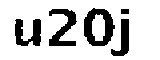0: (82, 7, 114, 47)
2: (46, 6, 79, 50)
j: (112, 7, 135, 57)
u: (10, 17, 42, 50)
